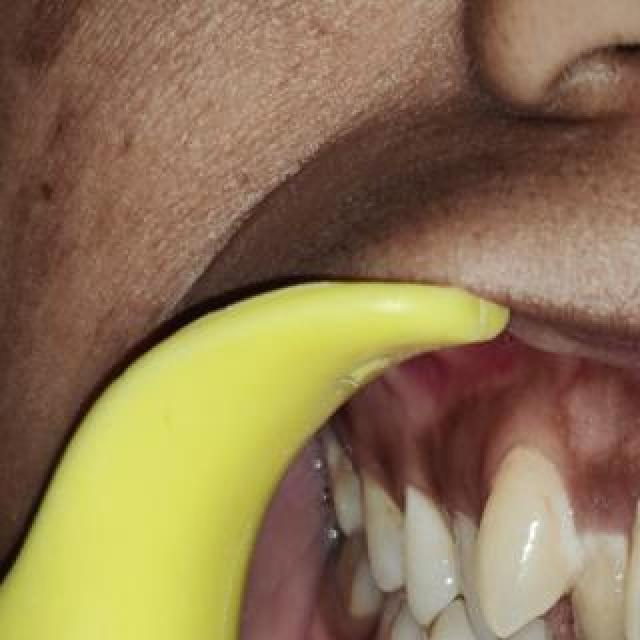maligned: (482, 421, 568, 615), (550, 508, 624, 640), (450, 492, 492, 640)
plaque: (560, 502, 636, 606), (630, 450, 640, 558)
